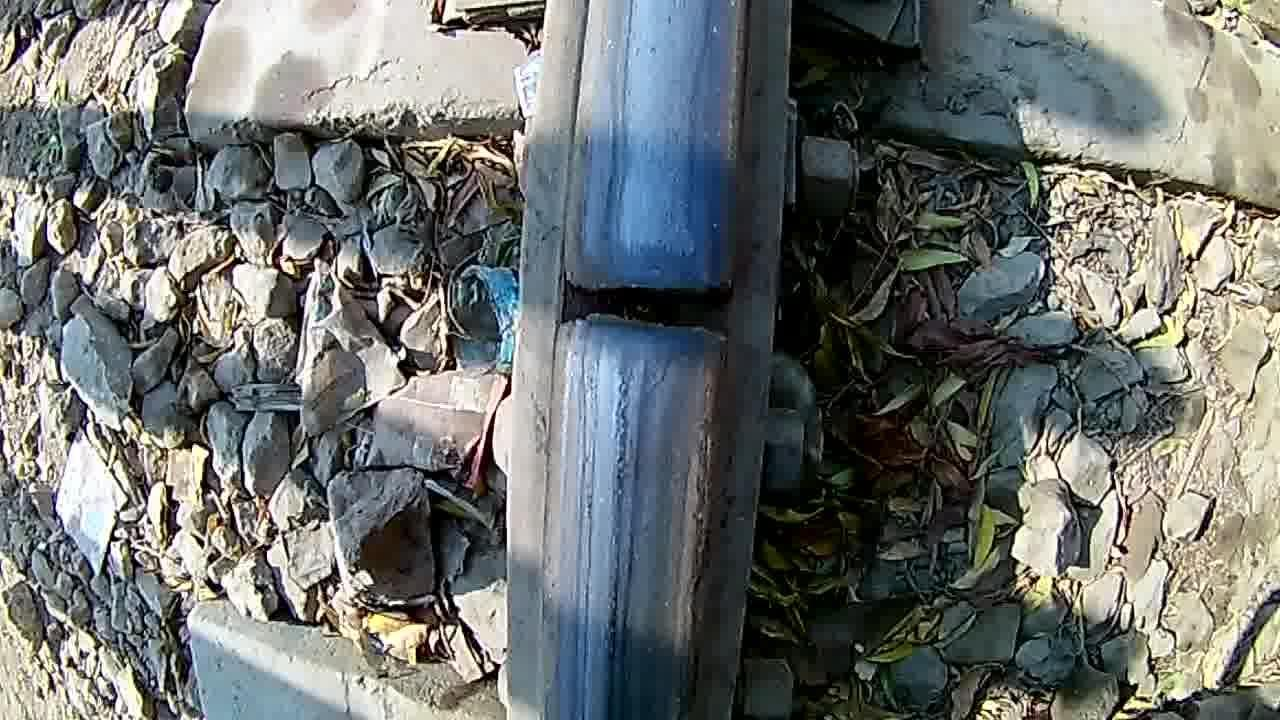crack: (553, 214, 757, 422)
